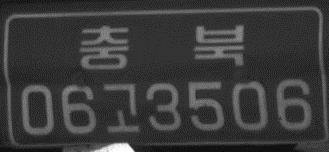0: (231, 78, 270, 133), (18, 81, 55, 136)
3: (144, 81, 181, 134)
5: (186, 78, 226, 133)
6: (58, 81, 98, 137), (274, 76, 313, 132)
고: (100, 80, 142, 135)
충북_D: (75, 21, 247, 74)
